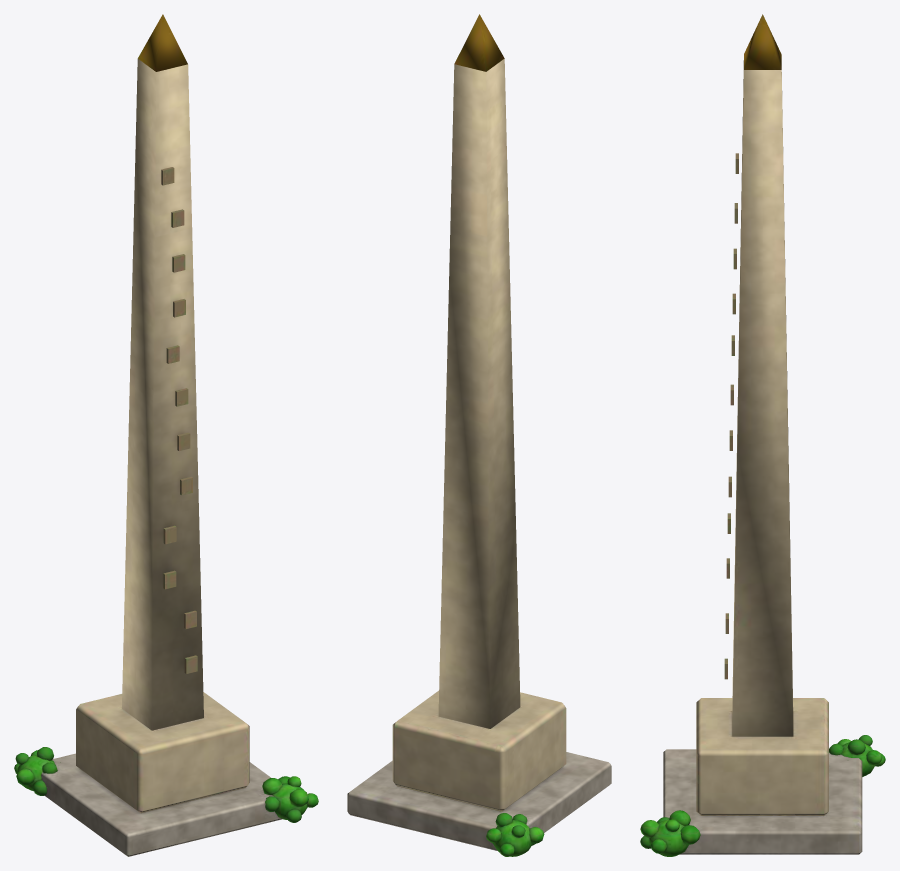
The model's file is obelisk.glb.
3 renders of one model, left to right at view 1: azimuth 30°, elevation 25°; view 2: azimuth 150°, elevation 25°; view 3: azimuth 270°, elevation 25°, orthographic.
Visible parts, largest first — view 1: obelisk; view 2: obelisk; view 3: obelisk.
Boxes of the visible parts, box(x1,y1,x2,y2) form: obelisk: box(14, 14, 318, 856); obelisk: box(347, 14, 611, 856); obelisk: box(640, 14, 885, 856).
Bounding box in the file's own units: 0.7378 × 2.66 × 0.7404.
Materials: 1 (1 with a texture image).
